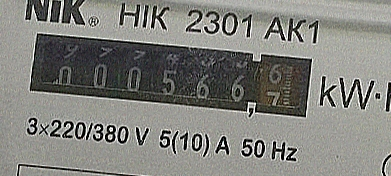0: (124, 63, 145, 94), (90, 59, 110, 90), (55, 61, 76, 85)
5: (159, 66, 179, 97)
6: (228, 71, 249, 103), (192, 70, 213, 100), (267, 61, 285, 87)
7: (264, 89, 282, 108)
9: (61, 39, 81, 61)
screen: (20, 24, 319, 126)
